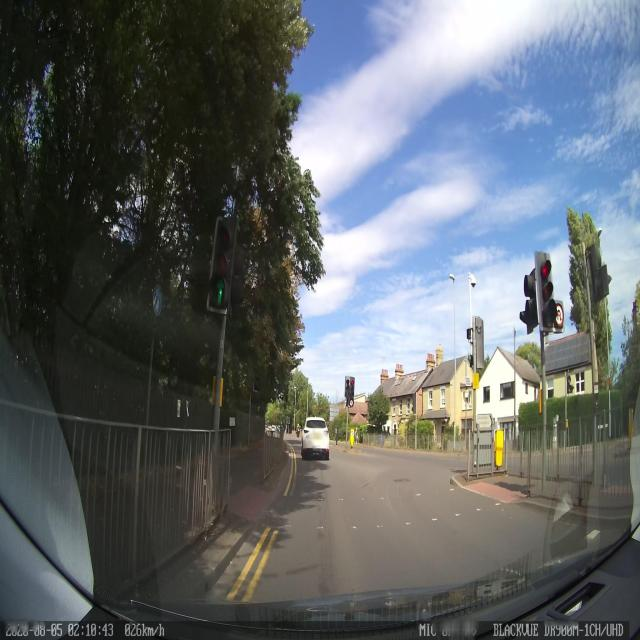car: (300, 416, 330, 460)
